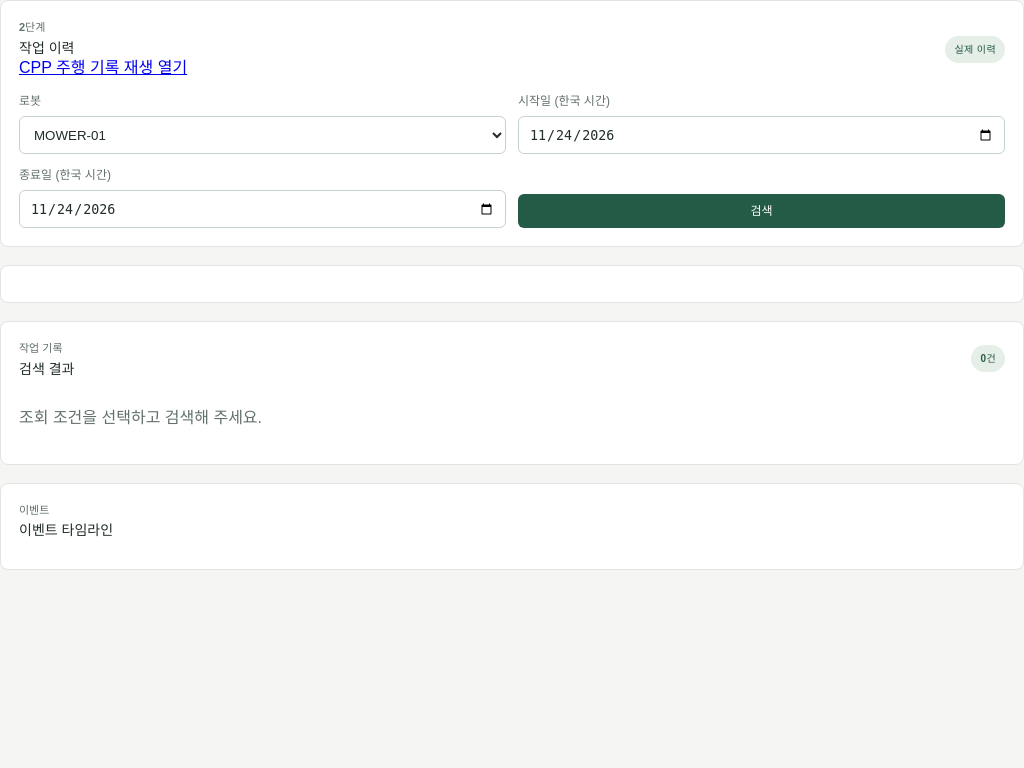
Scenario: 작업 행을 선택한 뒤에만 해당 로그를 읽고 미등록 상태를 표시한다
Click the button "검색" at (762, 211), box [518,194,1005,228]
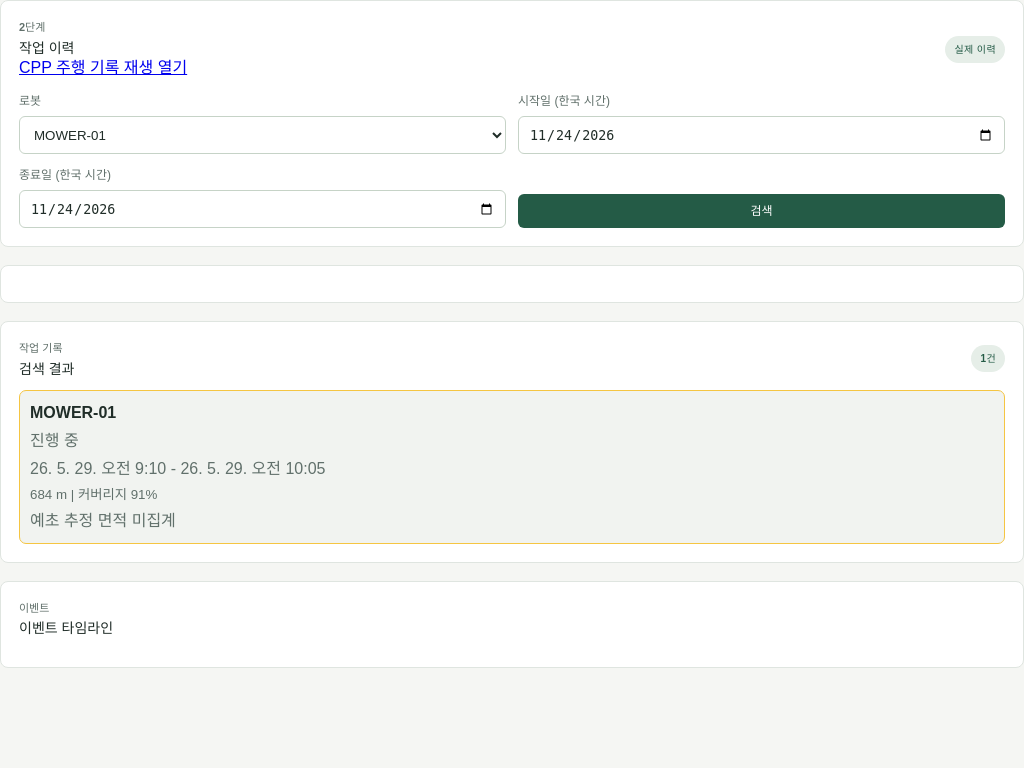
Click the button "MOWER-01" at (512, 467), box [19,390,1005,544]
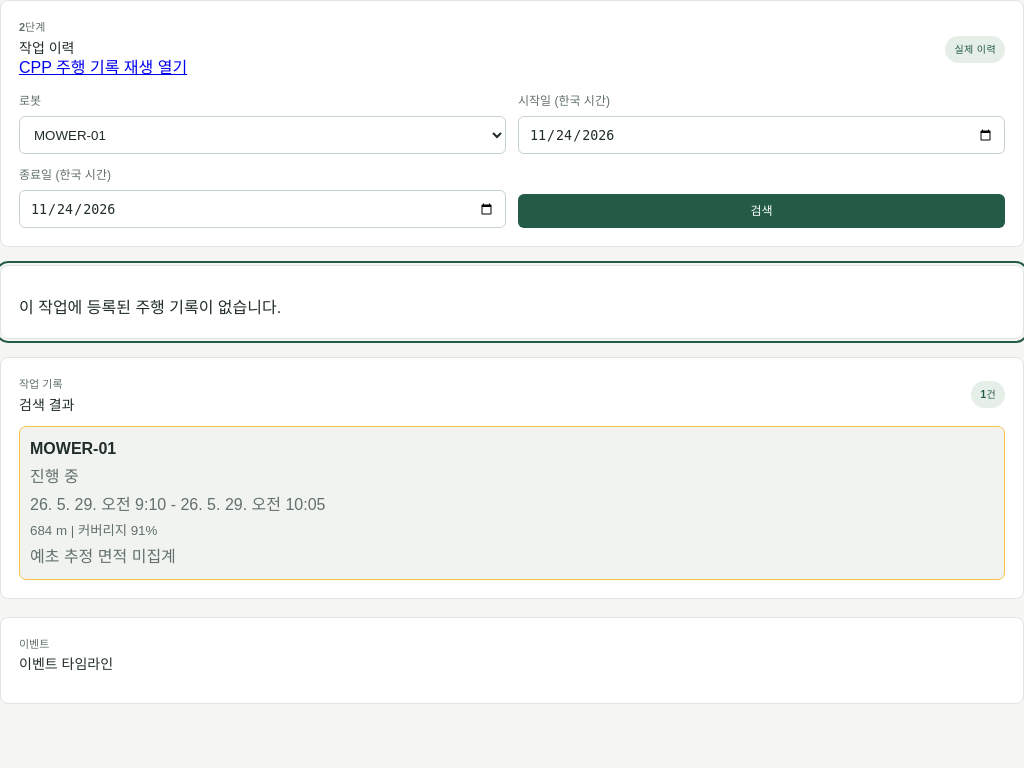
Check: the text "이 작업에 등록된 주행 기록이 없습니다." is shown, box [19,299,281,316]
